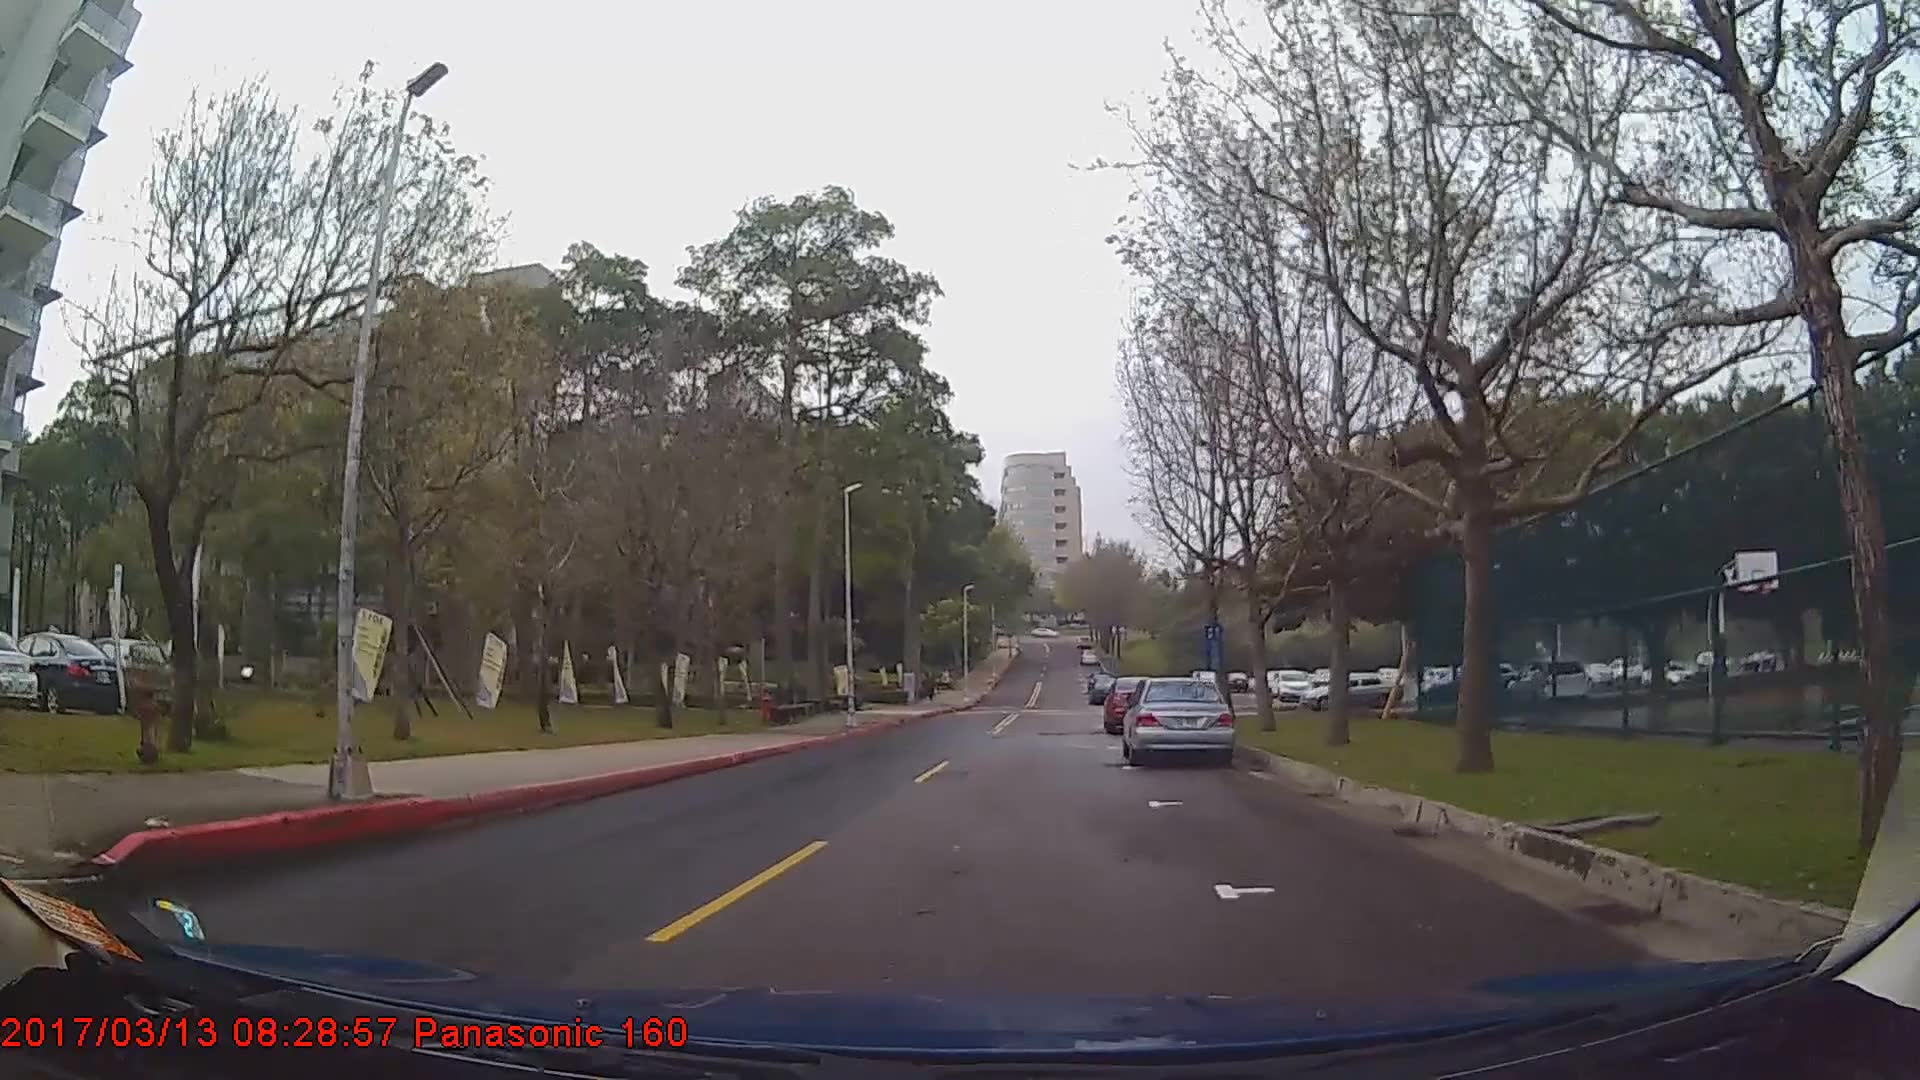vehicle: (1120, 676, 1234, 769), (0, 632, 121, 717), (76, 637, 170, 705), (1296, 669, 1402, 713), (1101, 674, 1167, 733), (0, 632, 44, 713), (1087, 676, 1122, 704)
